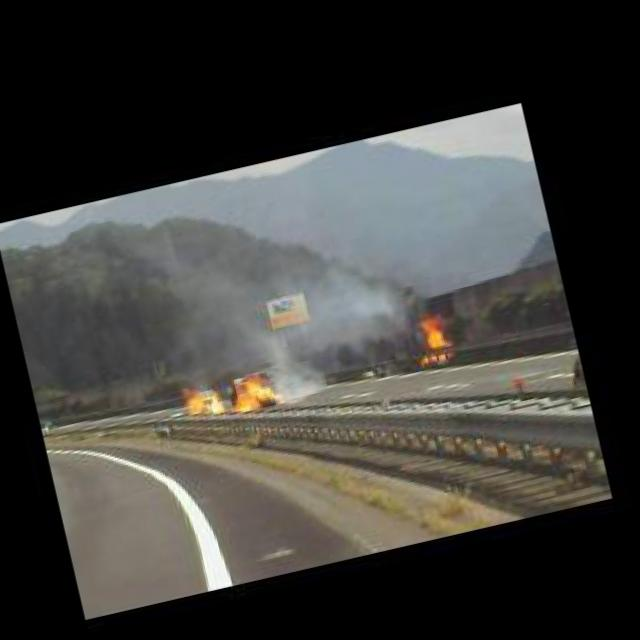fire: (408, 306, 459, 366), (226, 372, 274, 414), (180, 379, 222, 418)
smoke: (262, 232, 416, 368), (261, 346, 332, 410)
